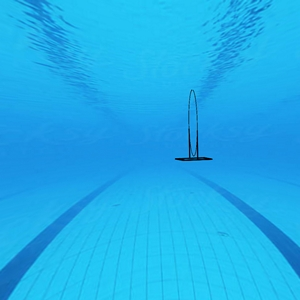circle: (171, 84, 217, 168)
